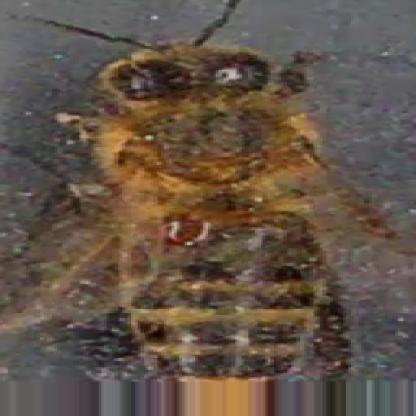bee: (77, 40, 349, 380)
vaoora: (151, 216, 204, 239)
